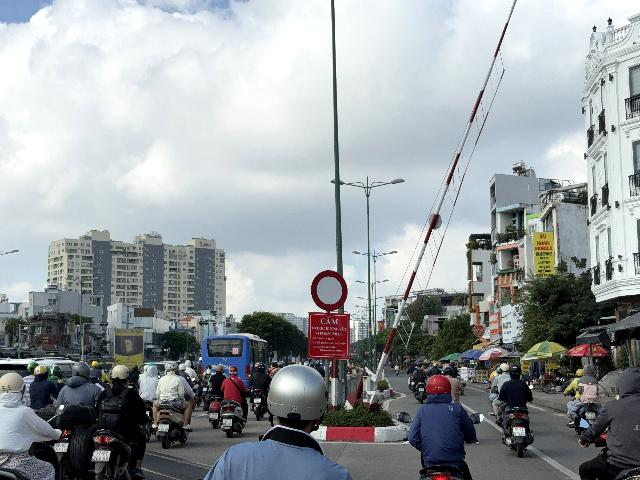duong-cam: (311, 270, 348, 311)
